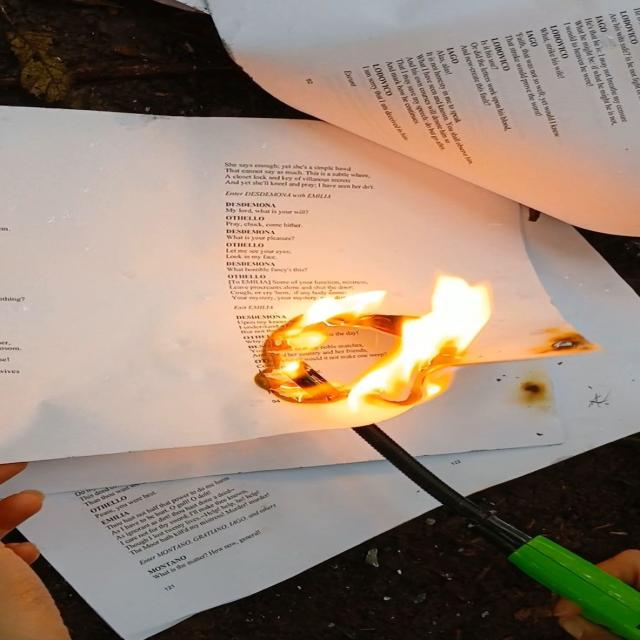fire: (259, 273, 489, 410)
